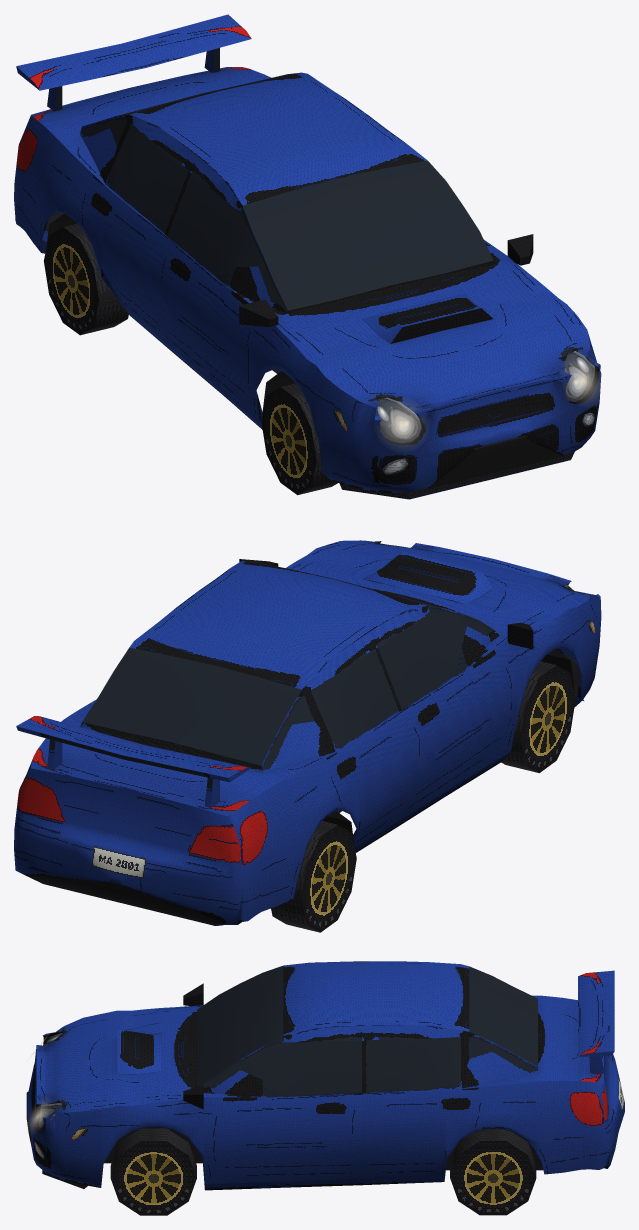
The model's file is wrx_lean.glb.
3 views of the same model, one above another, from view 1: azimuth 30°, elevation 25°; view 2: azimuth 150°, elevation 25°; view 3: azimuth 270°, elevation 25° (orthographic). The views are drawn at different scales.
Parts seen in each view (by area): view 1: WRX_Body, WRX_Wheel_RR, WRX_Wheel_FR, WRX_FX_HeadGlow; view 2: WRX_Body, WRX_Wheel_RR, WRX_Wheel_FR; view 3: WRX_Body, WRX_Wheel_FL, WRX_Wheel_RL.
Part boxes in pixels (<box>): WRX_Body: <box>14,14,601,499</box>; WRX_Wheel_RR: <box>44,223,128,335</box>; WRX_Wheel_FR: <box>261,383,338,495</box>; WRX_FX_HeadGlow: <box>383,362,599,443</box>; WRX_Body: <box>14,540,601,925</box>; WRX_Wheel_RR: <box>271,821,356,932</box>; WRX_Wheel_FR: <box>501,661,575,773</box>; WRX_Body: <box>26,961,624,1190</box>; WRX_Wheel_FL: <box>110,1128,196,1215</box>; WRX_Wheel_RL: <box>450,1129,536,1215</box>.
Bounding box in the file's own units: 1.94 × 1.45 × 4.49.
6 materials, 4 textured.
